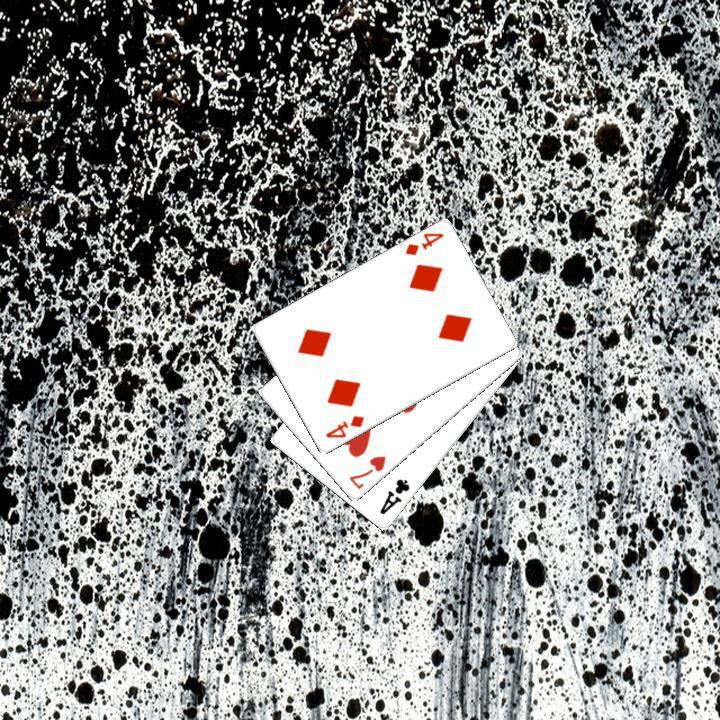4: (321, 411, 366, 441), (400, 229, 445, 258)
7: (344, 452, 388, 492)
A: (375, 475, 412, 517)
